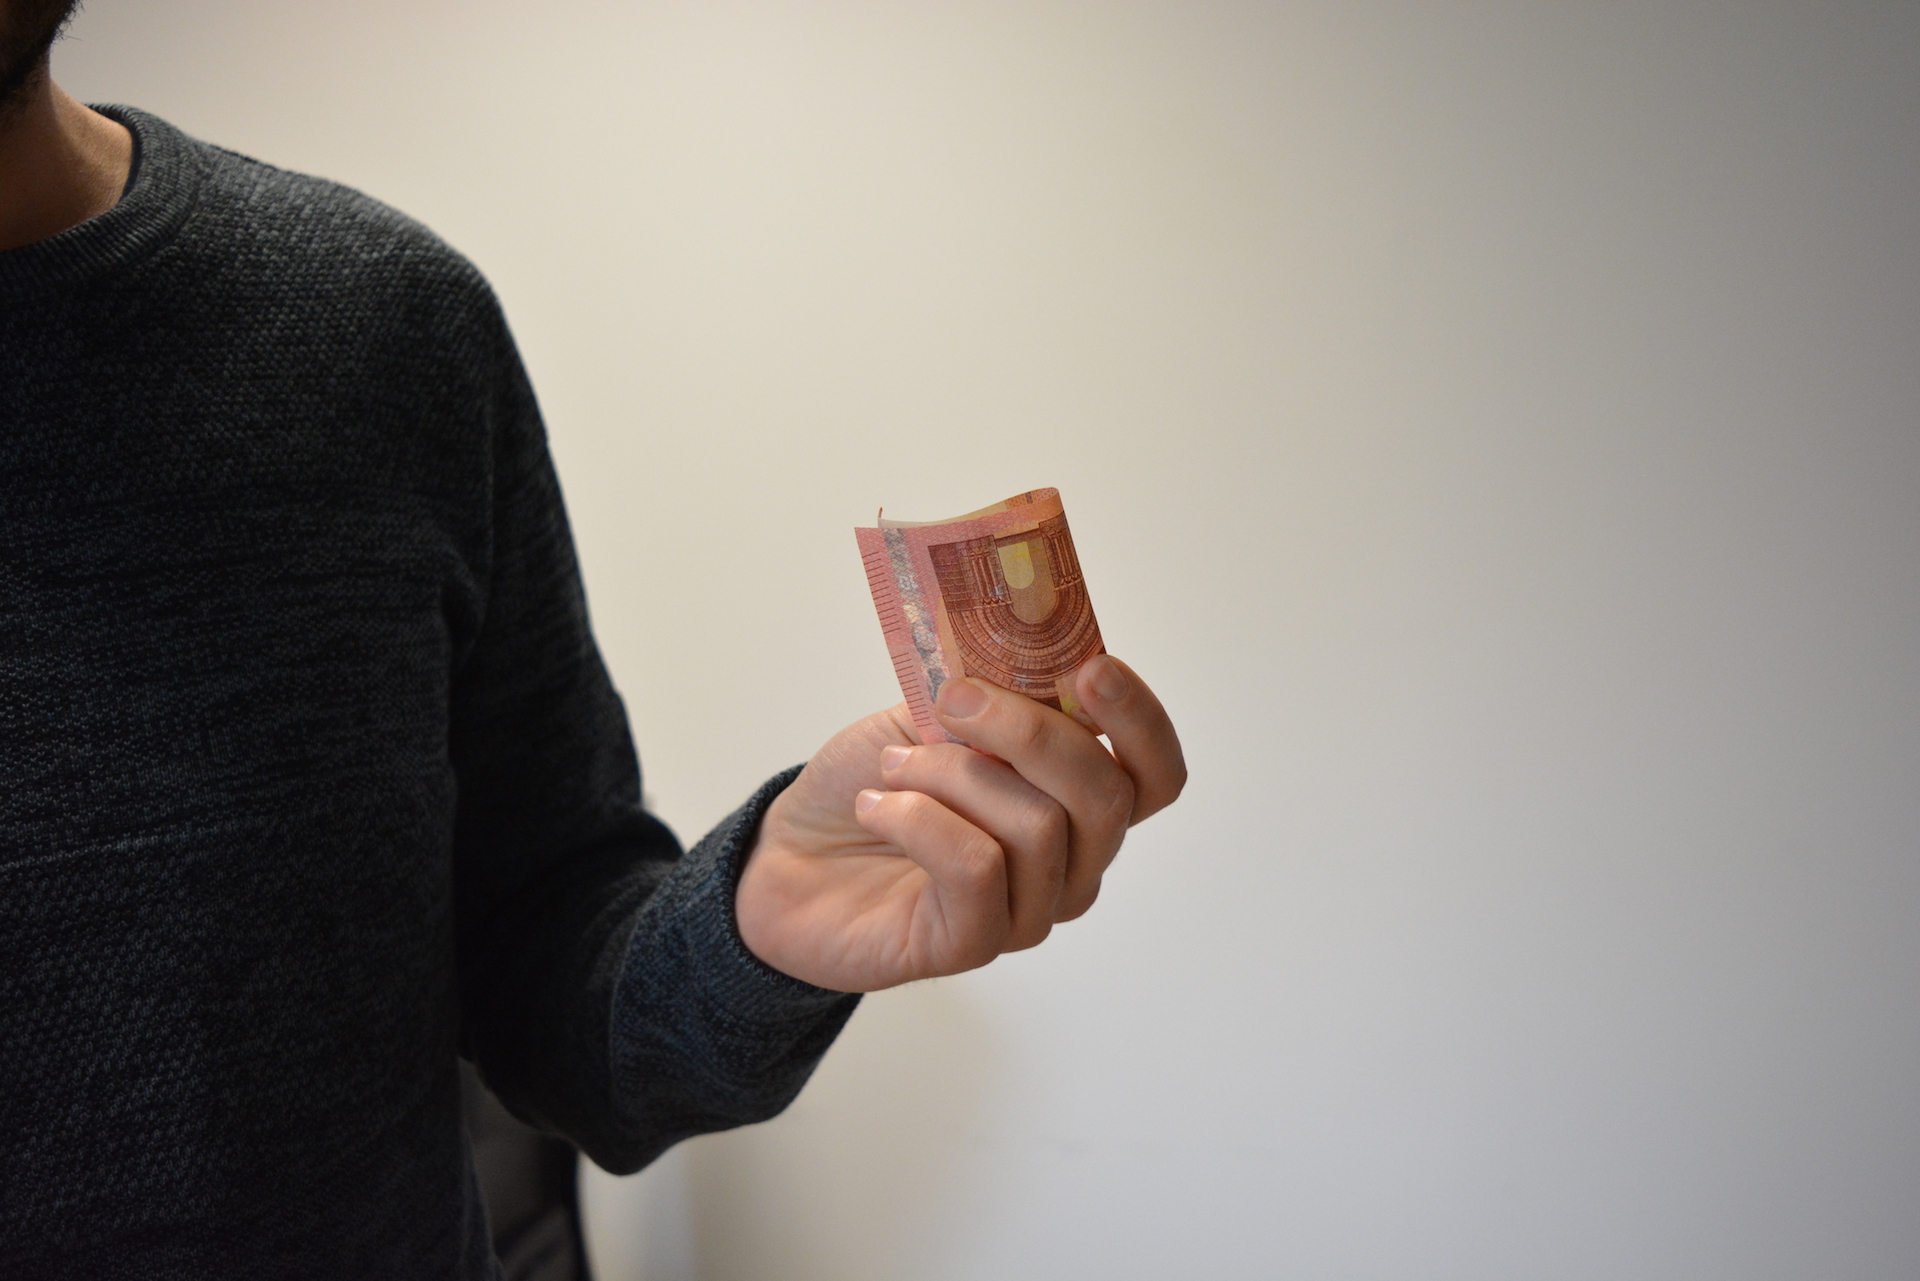billete: (852, 485, 1117, 771)
